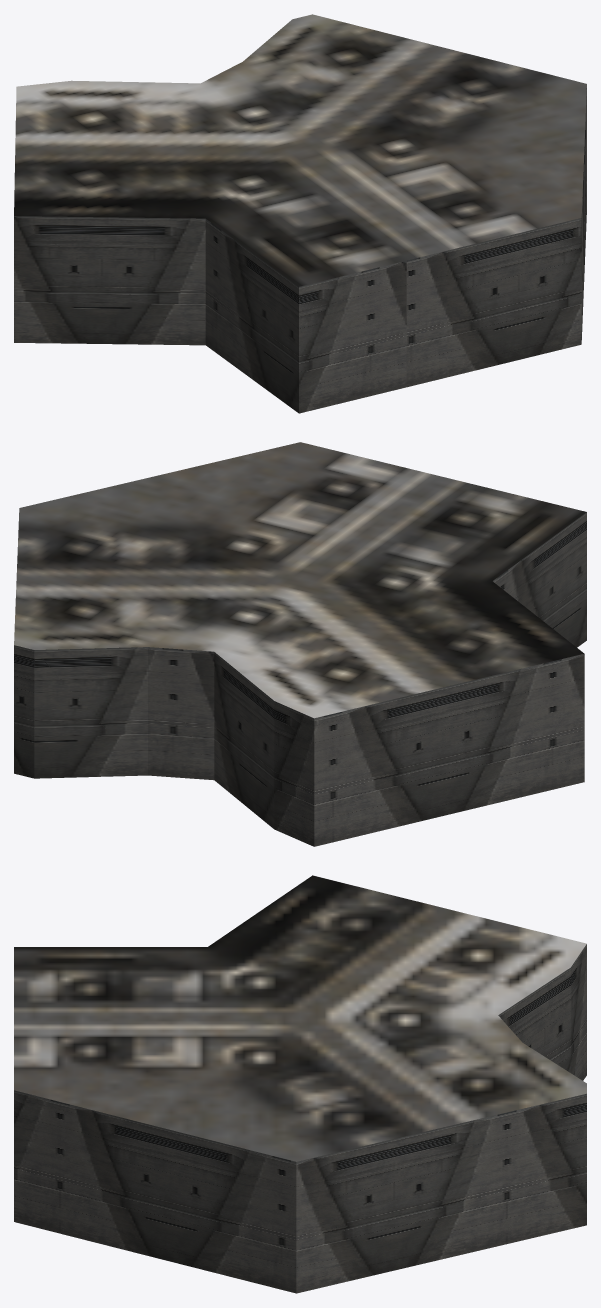
Rendered from fortress_hard_46.glb.
3 views of the same model, one above another, from view 1: azimuth 30°, elevation 25°; view 2: azimuth 150°, elevation 25°; view 3: azimuth 270°, elevation 25° (orthographic). The views are drawn at different scales.
Visible parts, largest first — view 1: buildings/saxarba/fortress_hard/fortress_hard_46; view 2: buildings/saxarba/fortress_hard/fortress_hard_46; view 3: buildings/saxarba/fortress_hard/fortress_hard_46.
Part boxes in pixels (left/top/right/bottom): buildings/saxarba/fortress_hard/fortress_hard_46: left=14, top=14, right=586, bottom=413; buildings/saxarba/fortress_hard/fortress_hard_46: left=14, top=442, right=586, bottom=846; buildings/saxarba/fortress_hard/fortress_hard_46: left=14, top=875, right=586, bottom=1293.
Size of the model in its own units: 84 by 18 by 71.
